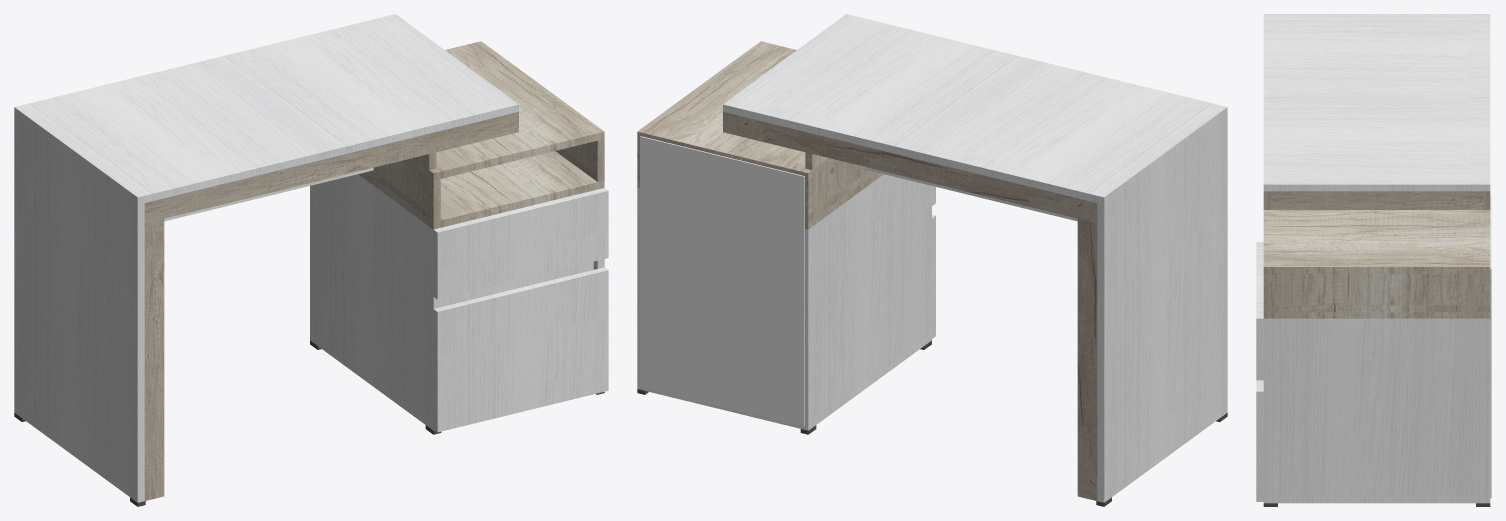
Rendered from olmo.dae.
The picture shows the model from 3 angles, left to right: view 1: azimuth 30°, elevation 25°; view 2: azimuth 150°, elevation 25°; view 3: azimuth 270°, elevation 25°; orthographic projection. The views are drawn at different scales.
Parts seen in each view (by area): view 1: _01_Mesa_Techo_escritorio, _02_Lateral_escritorio, _04_Lateral_modulo_cajones, _14_Tapa_cajon_2, _15_Techo_y_piso_estante_abierto (×2), _13_Tapa_cajon_1, _18_Faja_horizontal_de_color_diferente, _17_Faja_vertical_de_color_diferente, _16_Laterales_estante_abierto (×2), _06_gola_vertical, _03_Faja_medio_escritorio; view 2: _01_Mesa_Techo_escritorio, _21_Fondo_de_3_mm_sector_cajones, _02_Lateral_escritorio, _04_Lateral_modulo_cajones, _15_Techo_y_piso_estante_abierto, _18_Faja_horizontal_de_color_diferente, _17_Faja_vertical_de_color_diferente, _16_Laterales_estante_abierto, _03_Faja_medio_escritorio; view 3: _04_Lateral_modulo_cajones, _01_Mesa_Techo_escritorio, _15_Techo_y_piso_estante_abierto (×2), _16_Laterales_estante_abierto, _19_Faja_horizontal_chica_de_color_diferente, _13_Tapa_cajon_1, _14_Tapa_cajon_2, _21_Fondo_de_3_mm_sector_cajones.
Boxes of the visible parts, <box> form: _01_Mesa_Techo_escritorio: <box>14,14,518,204</box>; _02_Lateral_escritorio: <box>14,115,144,502</box>; _04_Lateral_modulo_cajones: <box>310,174,440,430</box>; _14_Tapa_cajon_2: <box>433,267,608,432</box>; _15_Techo_y_piso_estante_abierto (×2): <box>358,41,604,229</box>; _13_Tapa_cajon_1: <box>433,188,608,299</box>; _18_Faja_horizontal_de_color_diferente: <box>144,112,518,223</box>; _17_Faja_vertical_de_color_diferente: <box>144,219,164,500</box>; _16_Laterales_estante_abierto (×2): <box>366,139,604,222</box>; _06_gola_vertical: <box>440,261,593,306</box>; _03_Faja_medio_escritorio: <box>164,167,373,221</box>; _01_Mesa_Techo_escritorio: <box>723,14,1227,204</box>; _21_Fondo_de_3_mm_sector_cajones: <box>640,136,804,426</box>; _02_Lateral_escritorio: <box>1097,114,1227,502</box>; _04_Lateral_modulo_cajones: <box>801,174,931,430</box>; _15_Techo_y_piso_estante_abierto: <box>637,41,836,180</box>; _18_Faja_horizontal_de_color_diferente: <box>723,112,1097,223</box>; _17_Faja_vertical_de_color_diferente: <box>1077,219,1097,500</box>; _16_Laterales_estante_abierto: <box>805,160,875,222</box>; _03_Faja_medio_escritorio: <box>868,167,1077,221</box>; _04_Lateral_modulo_cajones: <box>1263,318,1490,503</box>; _01_Mesa_Techo_escritorio: <box>1263,14,1490,191</box>; _15_Techo_y_piso_estante_abierto (×2): <box>1263,210,1490,318</box>; _16_Laterales_estante_abierto: <box>1263,274,1490,311</box>; _19_Faja_horizontal_chica_de_color_diferente: <box>1271,191,1482,209</box>; _13_Tapa_cajon_1: <box>1256,242,1263,380</box>; _14_Tapa_cajon_2: <box>1256,380,1263,501</box>; _21_Fondo_de_3_mm_sector_cajones: <box>1490,195,1491,498</box>.
Size of what is drawn, in the model's own units: 47.24 by 22.48 by 29.92.
